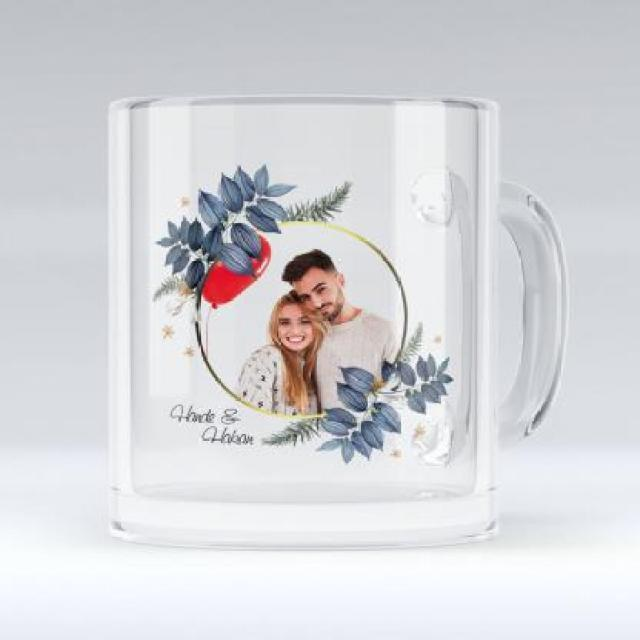taza: (104, 93, 570, 552)
